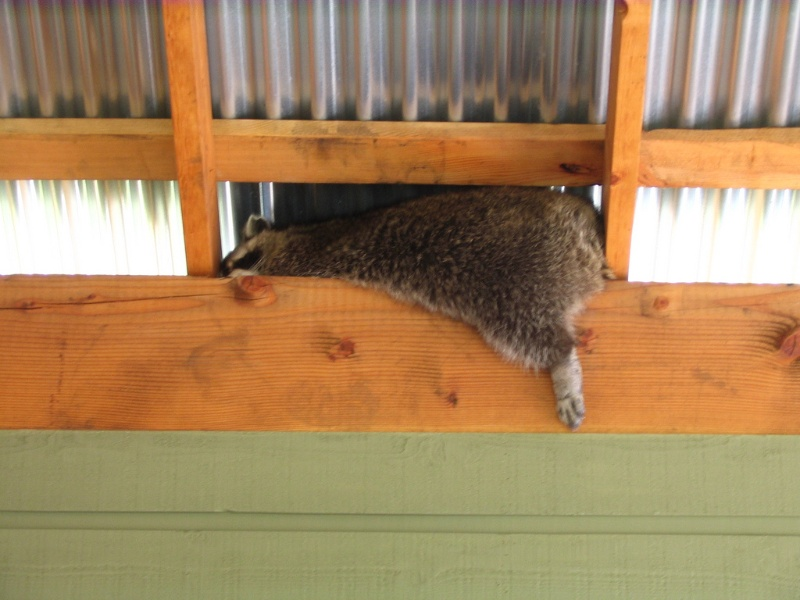raccoon: (214, 187, 621, 439)
